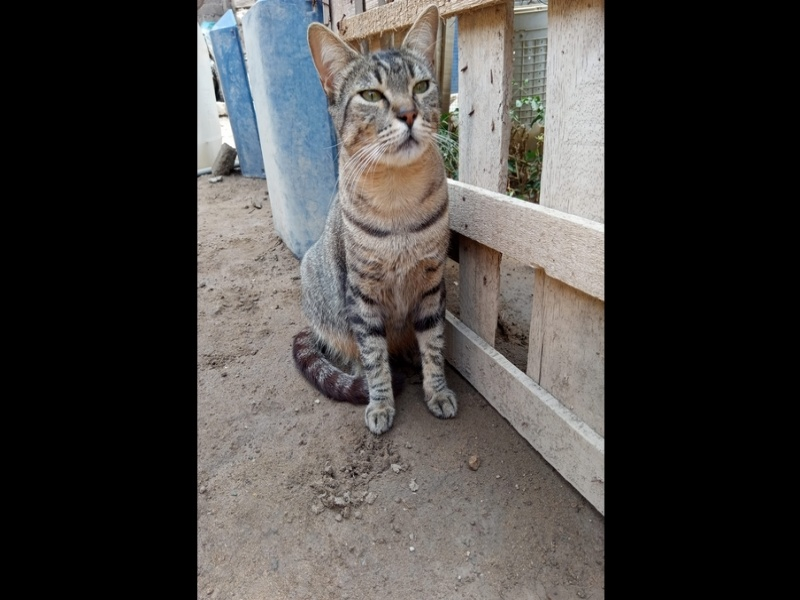cat: (292, 7, 459, 438)
